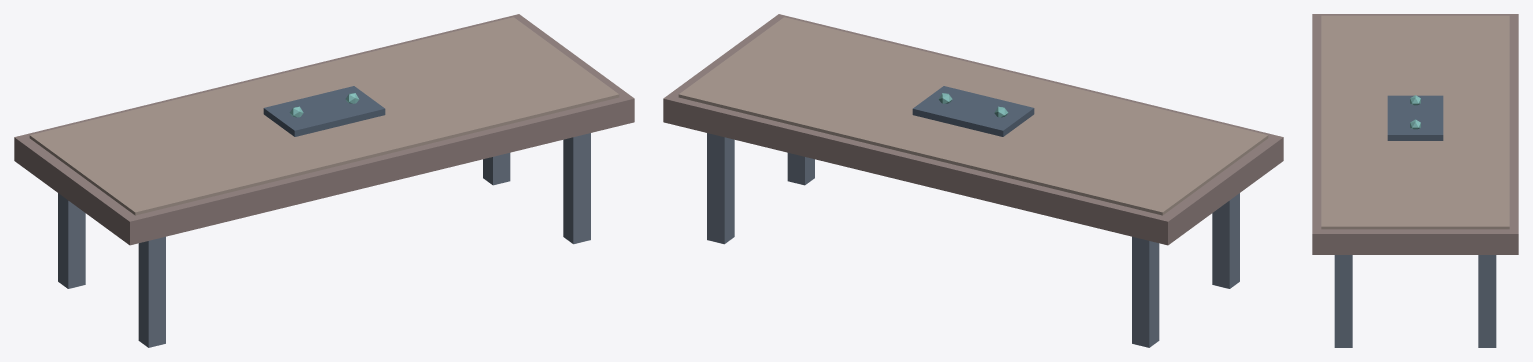
File: conference_table.glb
3 views of the same model, side by side, from view 1: azimuth 30°, elevation 25°; view 2: azimuth 150°, elevation 25°; view 3: azimuth 270°, elevation 25° (orthographic). The views are drawn at different scales.
Visible parts, largest first — view 1: world; view 2: world; view 3: world.
Part boxes in pixels (left/top/right/bottom): world: left=14, top=14, right=634, bottom=347; world: left=663, top=14, right=1283, bottom=347; world: left=1312, top=14, right=1518, bottom=347.
Size of the model in its own units: 2.9 by 0.8798 by 1.15.
